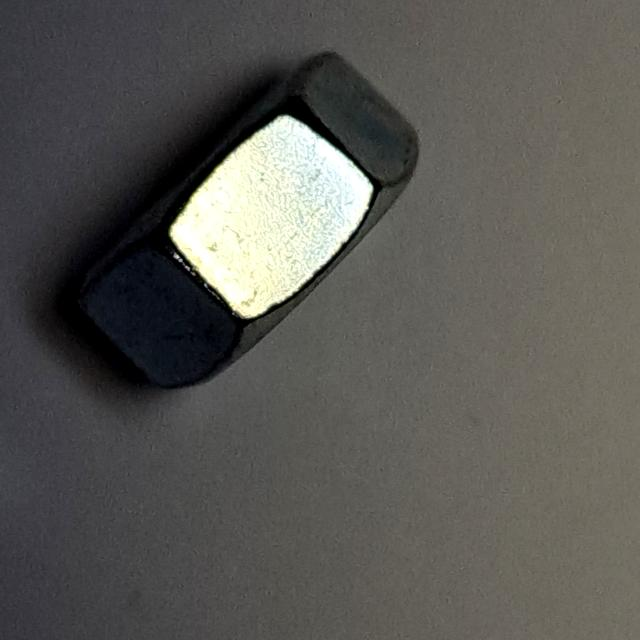Side_Excellent: (47, 36, 454, 418)
